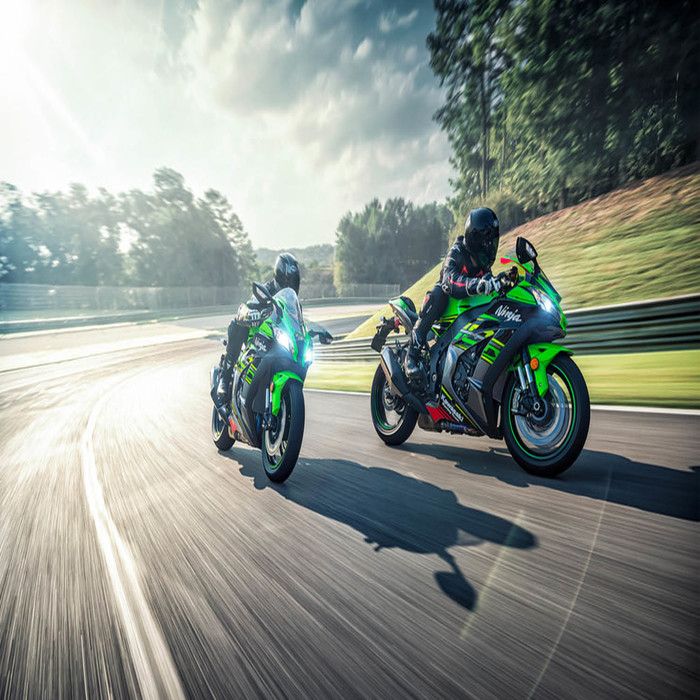h: (260, 247, 311, 301), (461, 208, 502, 269)
